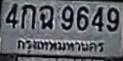4: (5, 2, 17, 28), (92, 6, 102, 31)
6: (76, 5, 88, 30)
9: (106, 7, 118, 31), (60, 5, 72, 29)
A01: (20, 4, 35, 28)
A09: (39, 5, 53, 28)
BKK: (14, 37, 106, 56)
